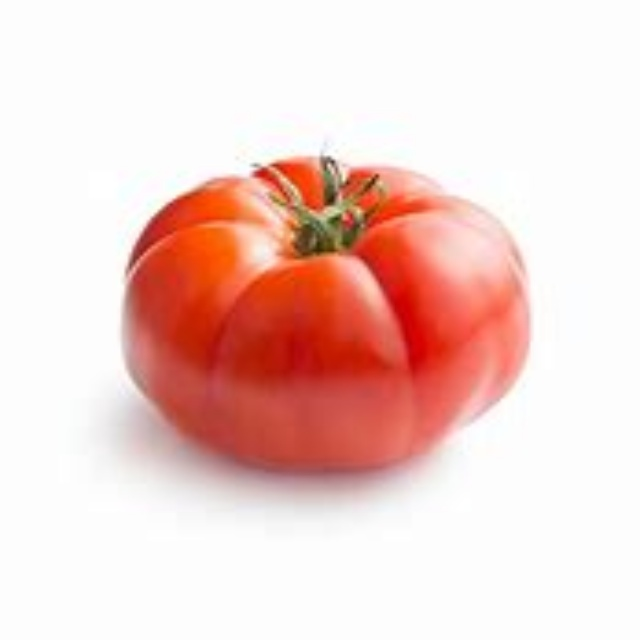tomato: (130, 155, 522, 472)
